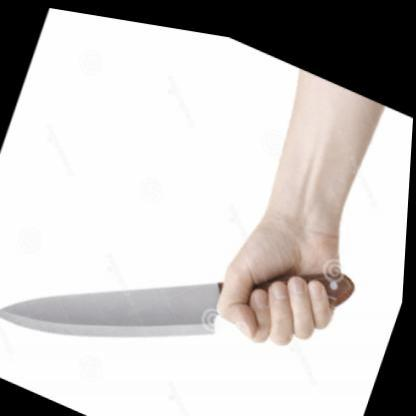knife: (0, 150, 310, 414)
